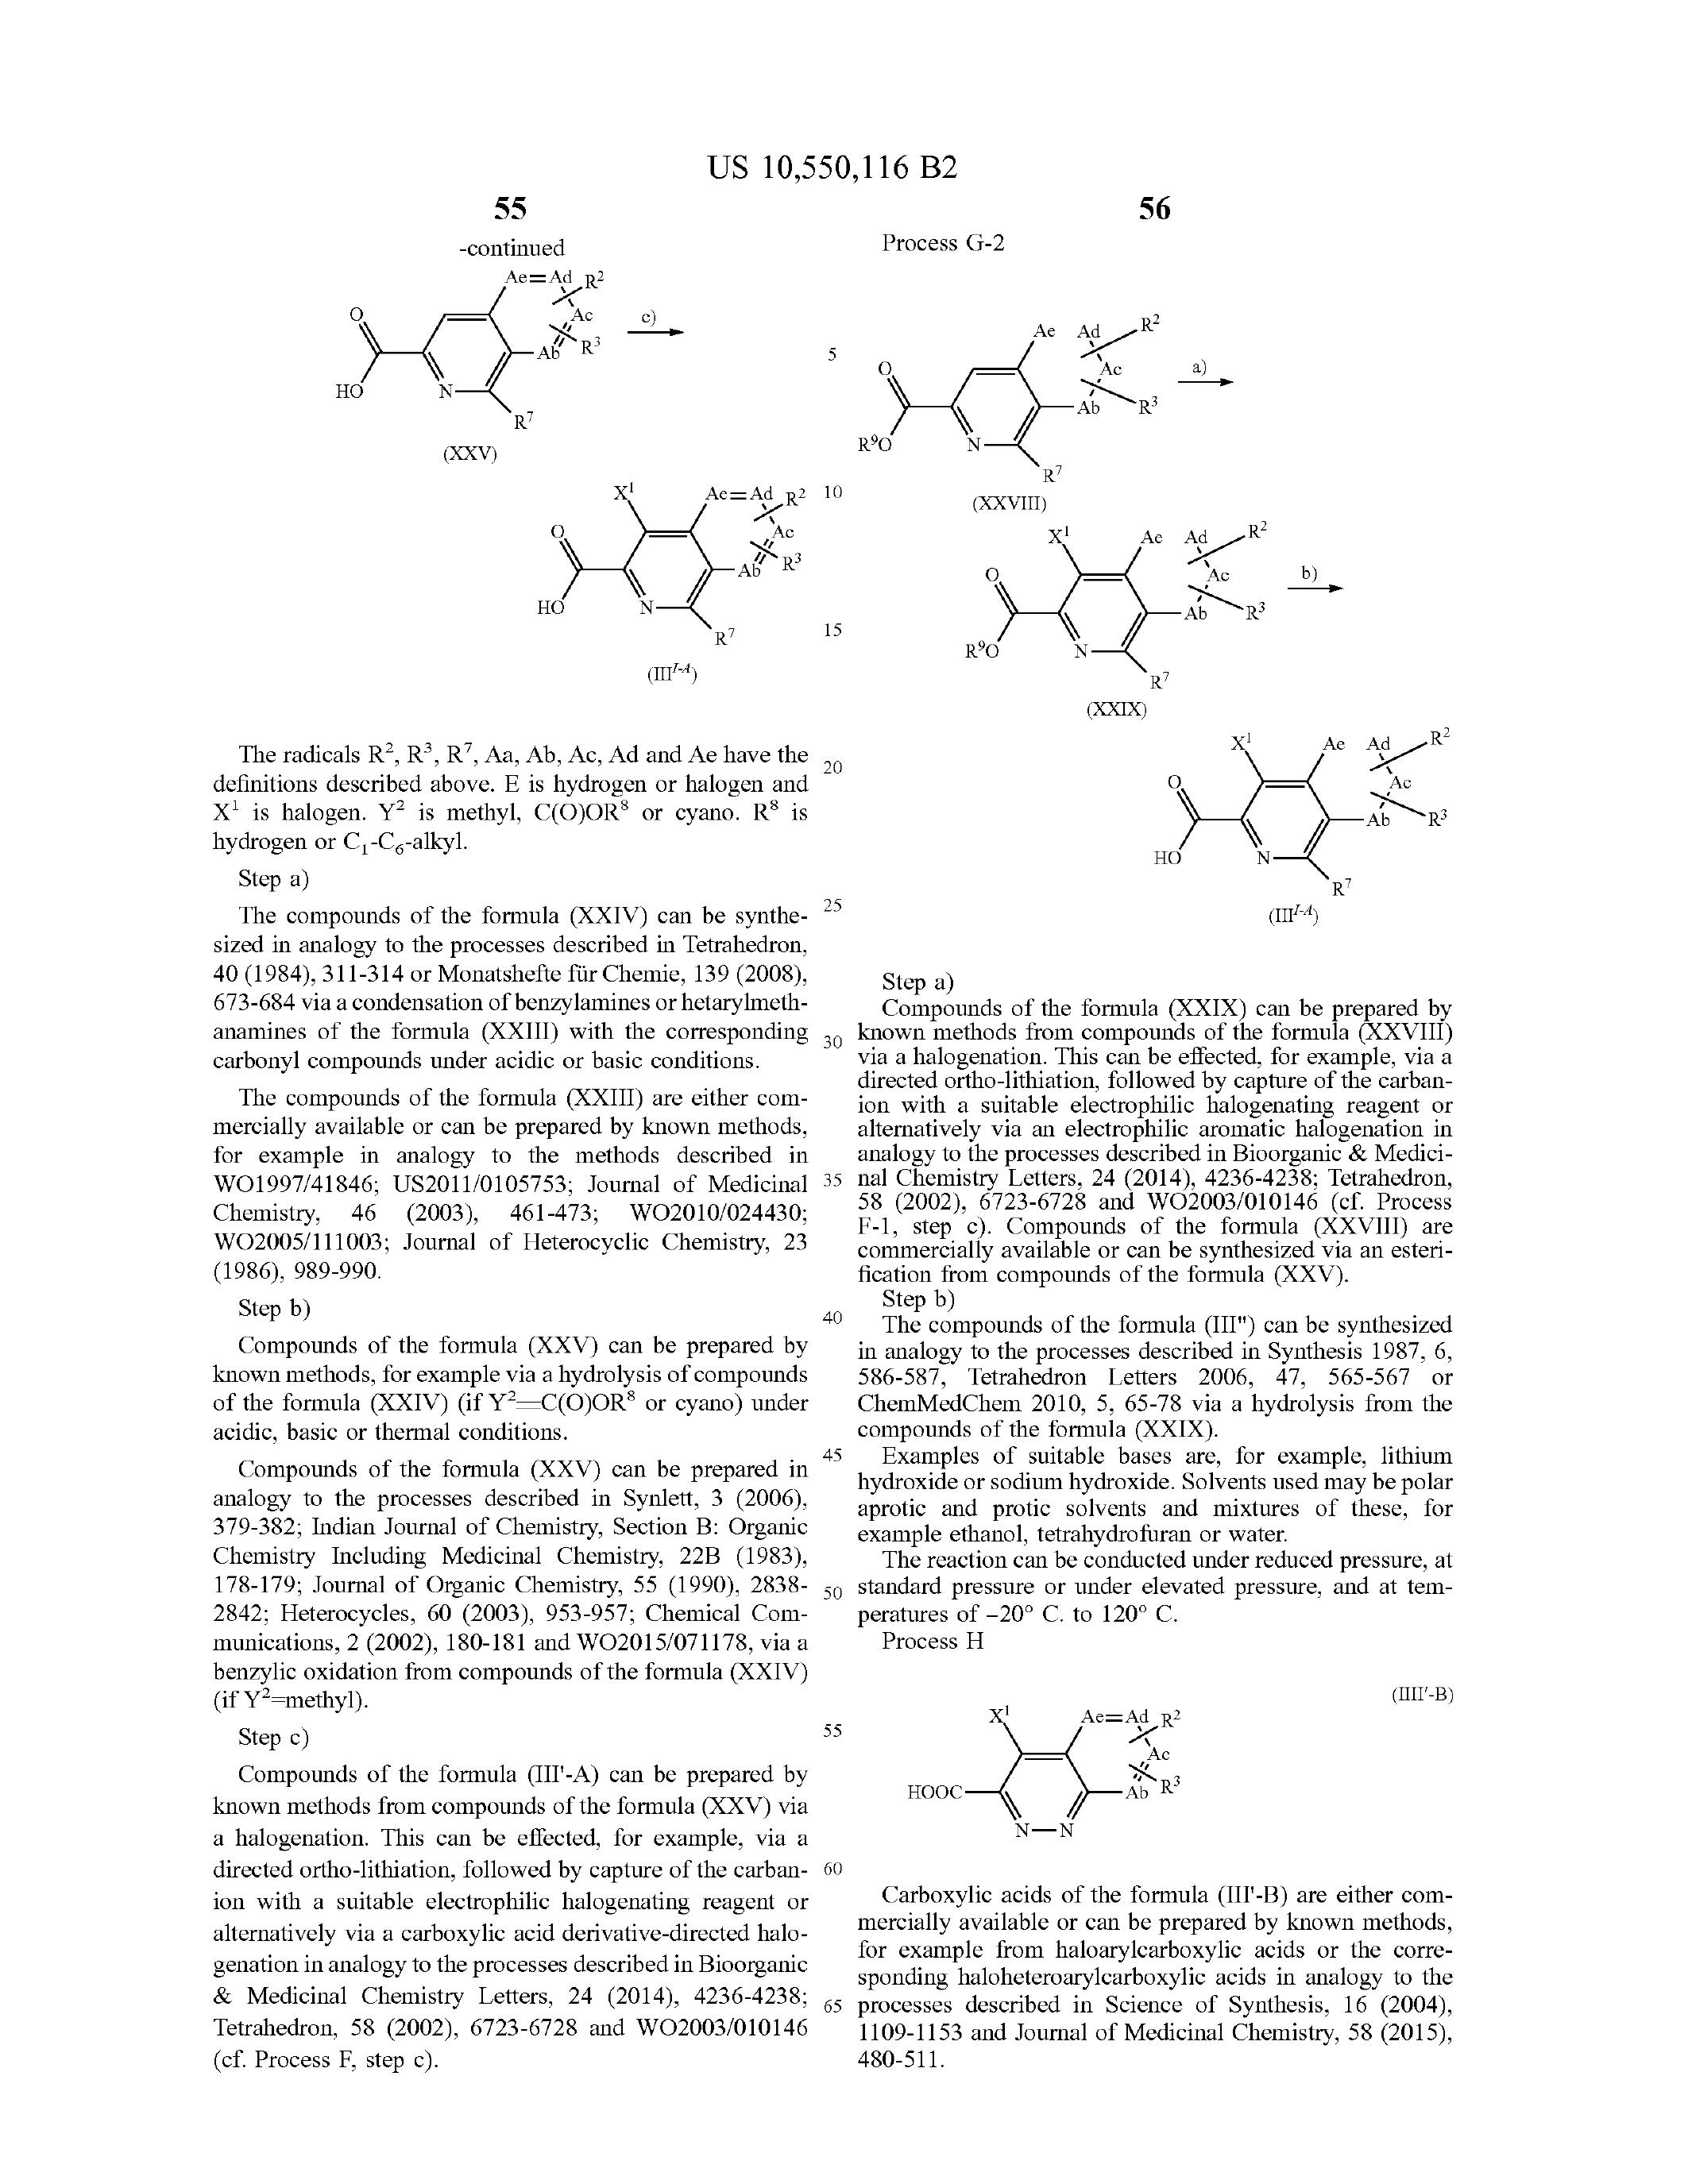reactions: (168, 167, 1484, 684), (1066, 716, 1504, 938)
